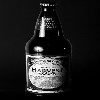beer: (24, 2, 73, 100)
